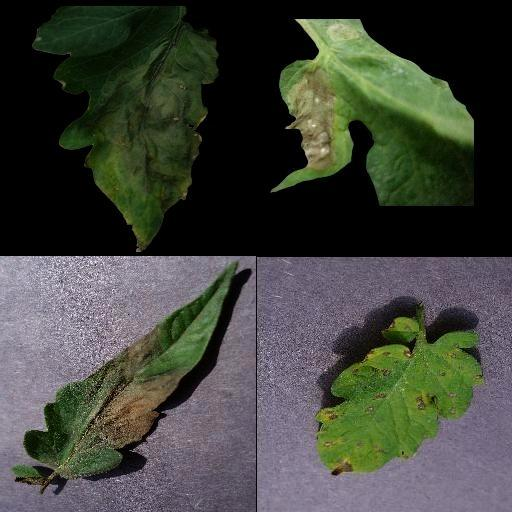Late Blight: (25, 259, 239, 479), (33, 5, 221, 253), (271, 19, 475, 207)
Septoria: (314, 330, 484, 476)
